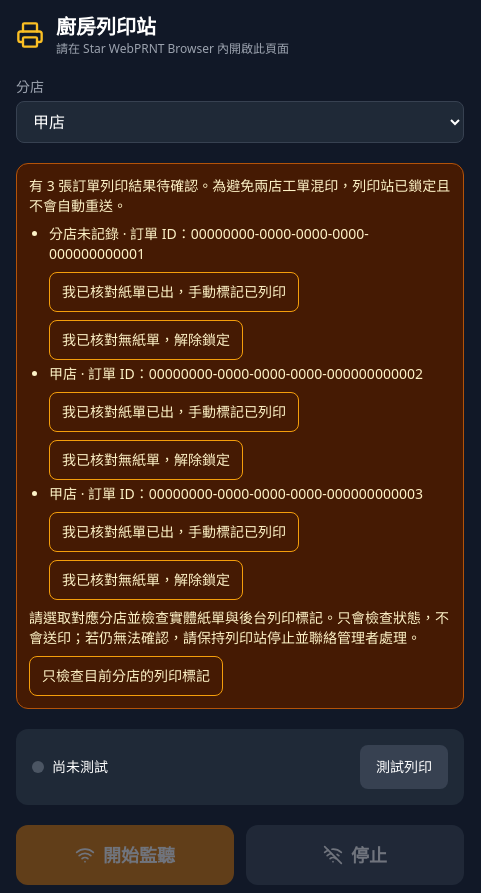
Test case: print station delayed sweep lifecycle › retains legacy unknown and missing ids while reconciling later printed orders
The image size is (481, 893).
Expected: the message shows "00000000-0000-0000-0000-000000000003", left=149, top=484, right=423, bottom=503
Click the button "只檢查目前分店的列印標記" at (126, 676), box left=29, top=656, right=223, bottom=696
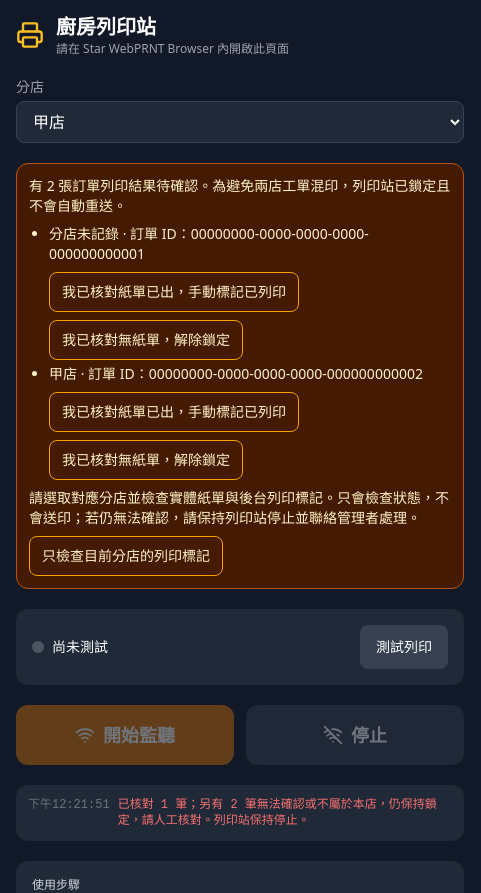
Now the text "已核對 1 筆；另有 2 筆無法確認或不屬於本店，仍保持鎖定，請人工核對。列印站保持停止。" is shown, box left=118, top=797, right=452, bottom=829
